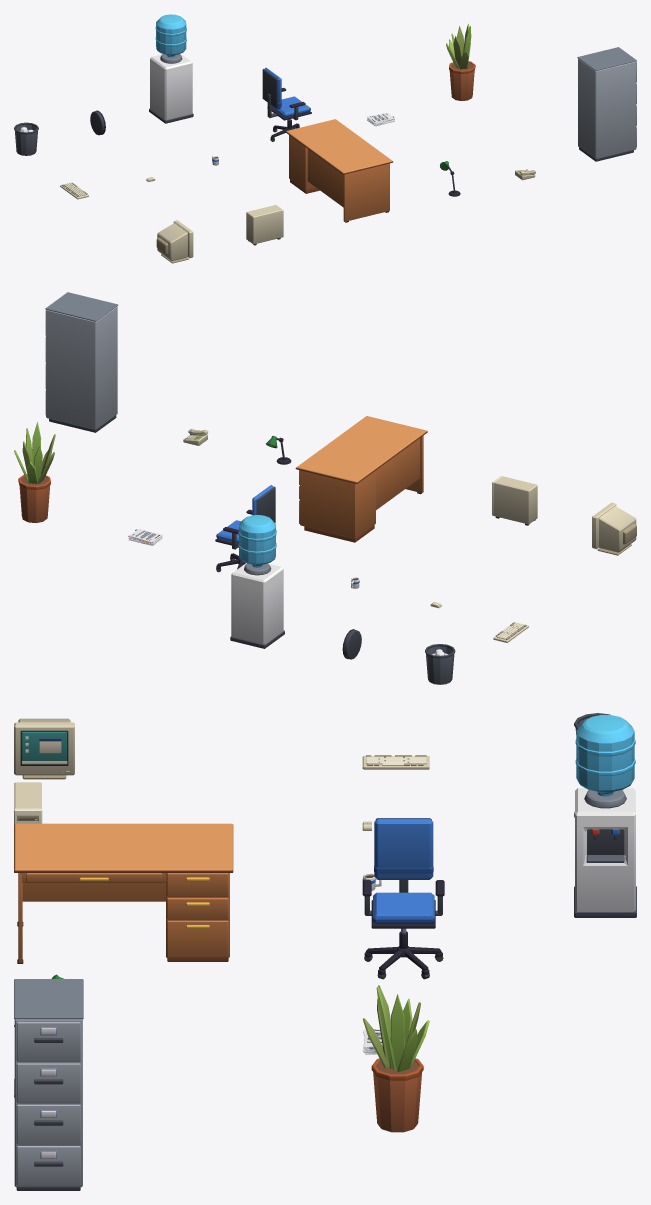
The model's file is Cartoon_Office_Pack_Free_All.fbx.
The picture shows the model from 3 angles, top to bottom: view 1: azimuth 30°, elevation 25°; view 2: azimuth 150°, elevation 25°; view 3: azimuth 270°, elevation 25°; orthographic projection. The views are drawn at different scales.
Visible parts, largest first — view 1: Desk, Filing_Cabinet, Water_Cooler, Office_Chair_Blue, Plant_Tall, Computer_Tower, CRT_Monitor, Trash_Bin; view 2: Desk, Filing_Cabinet, Water_Cooler, Plant_Tall, Computer_Tower, CRT_Monitor, Office_Chair_Blue, Trash_Bin; view 3: Desk, Filing_Cabinet, Water_Cooler, Office_Chair_Blue, Plant_Tall, CRT_Monitor, Computer_Tower, Keyboard.
Boxes of the visible parts, bbox=[...] form: Desk: bbox=[285, 119, 393, 222]; Filing_Cabinet: bbox=[577, 47, 636, 161]; Water_Cooler: bbox=[149, 14, 193, 123]; Office_Chair_Blue: bbox=[262, 67, 311, 141]; Plant_Tall: bbox=[446, 23, 475, 100]; Computer_Tower: bbox=[246, 205, 283, 245]; CRT_Monitor: bbox=[156, 220, 193, 263]; Trash_Bin: bbox=[14, 122, 38, 155]; Desk: bbox=[295, 416, 427, 542]; Filing_Cabinet: bbox=[45, 292, 118, 432]; Water_Cooler: bbox=[230, 515, 284, 648]; Plant_Tall: bbox=[14, 422, 55, 522]; Computer_Tower: bbox=[492, 476, 537, 525]; CRT_Monitor: bbox=[592, 502, 636, 555]; Office_Chair_Blue: bbox=[215, 485, 275, 572]; Trash_Bin: bbox=[425, 644, 455, 684]; Desk: bbox=[14, 823, 233, 963]; Filing_Cabinet: bbox=[14, 979, 83, 1190]; Water_Cooler: bbox=[574, 715, 636, 917]; Office_Chair_Blue: bbox=[362, 818, 444, 979]; Plant_Tall: bbox=[363, 985, 429, 1132]; CRT_Monitor: bbox=[14, 718, 74, 779]; Computer_Tower: bbox=[14, 782, 42, 824]; Keyboard: bbox=[362, 755, 429, 769].
Bounding box in the file's own units: 31.94 × 6.28 × 19.26.
Materials: 1 (1 with a texture image).
